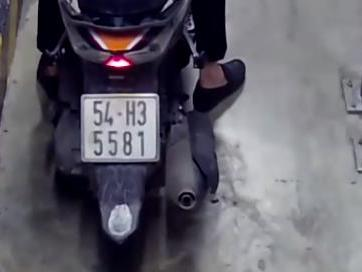num_plate: (80, 93, 161, 164)
